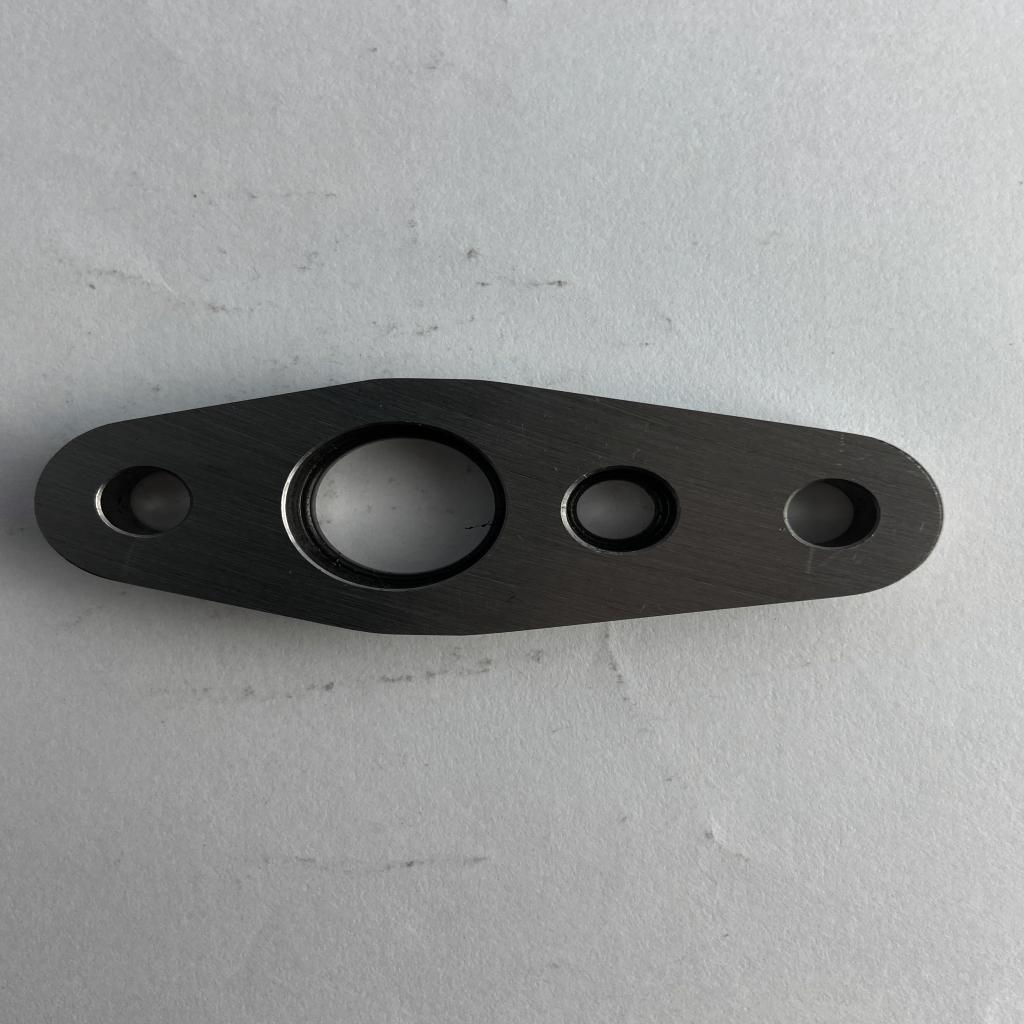chap: (776, 525, 787, 534), (287, 570, 293, 574)
